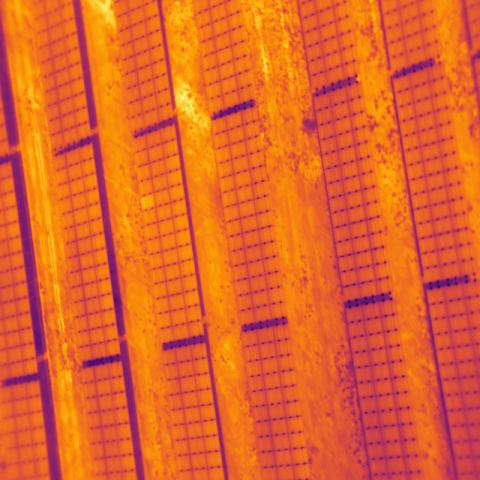fault: (139, 193, 156, 212)
